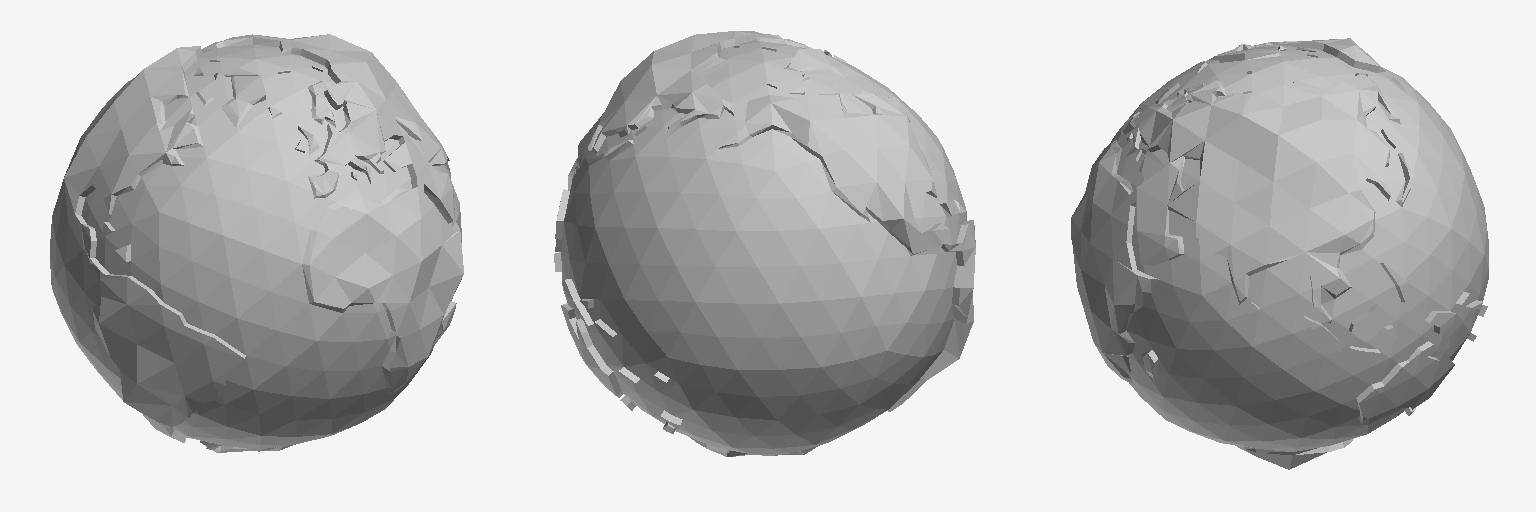
File: earth.obj
3 renders of one model, left to right at view 1: azimuth 30°, elevation 25°; view 2: azimuth 150°, elevation 25°; view 3: azimuth 270°, elevation 25°, orthographic.
Parts seen in each view (by area): view 1: earth; view 2: earth; view 3: earth.
Part boxes in pixels (bbox=[...]): earth: bbox=[50, 34, 463, 452]; earth: bbox=[554, 31, 975, 456]; earth: bbox=[1071, 38, 1488, 469].
Size of the model in its own units: 17.33 by 17.94 by 17.29.